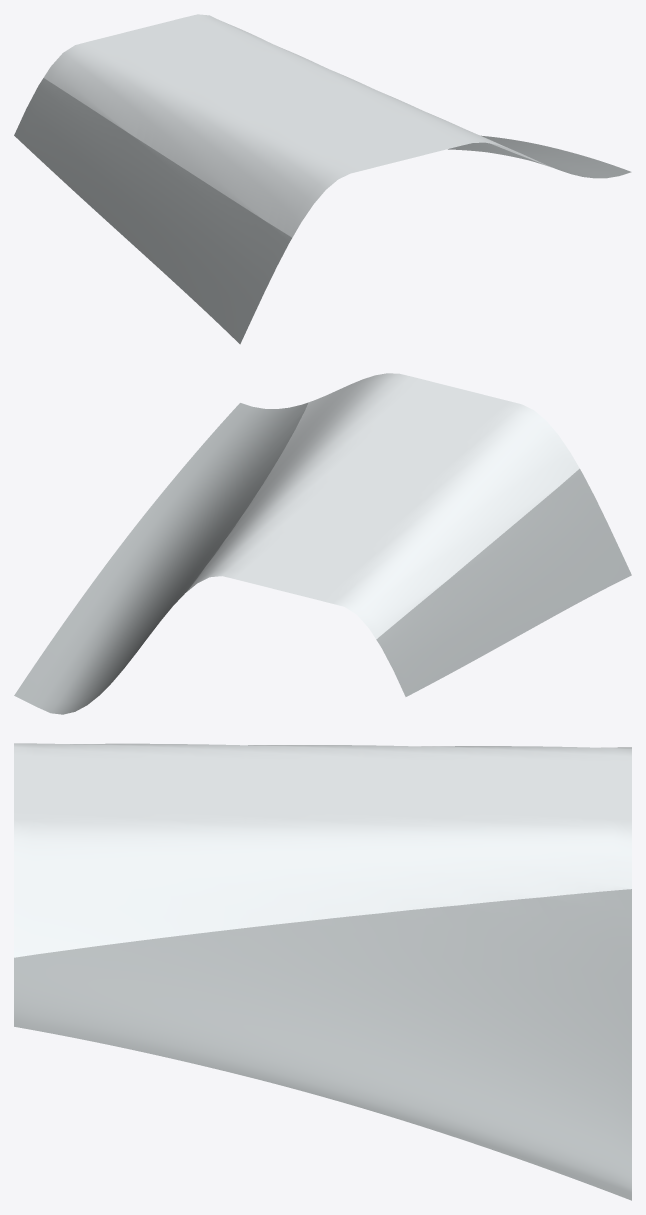
File: alpine-12-8.glb
3 renders of one model, top to bottom at view 1: azimuth 30°, elevation 25°; view 2: azimuth 150°, elevation 25°; view 3: azimuth 270°, elevation 25°, orthographic. The views are drawn at different scales.
Visible parts, largest first — view 1: alpine-12-8; view 2: alpine-12-8; view 3: alpine-12-8.
Part boxes in pixels (x1,y1,x2,y2): alpine-12-8: [14, 14, 631, 344]; alpine-12-8: [14, 373, 631, 714]; alpine-12-8: [14, 743, 631, 1200].
Bounding box in the file's own units: 256 × 127 × 256.
Materials: 2 (2 with a texture image).
